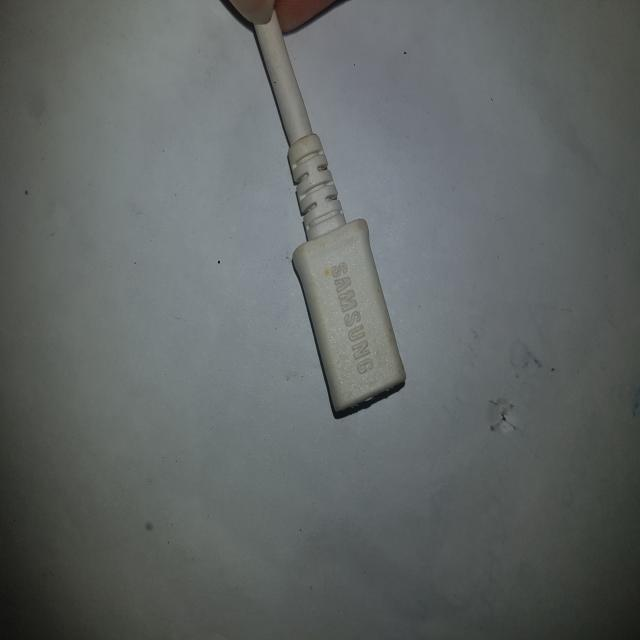electronic: (291, 217, 407, 416)
